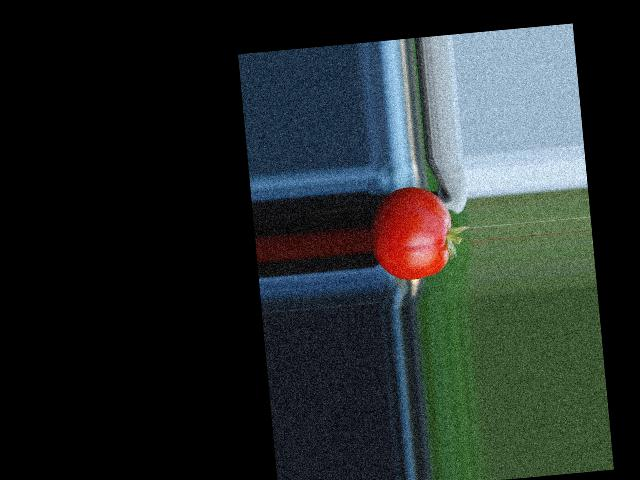tomato: (367, 183, 456, 283)
